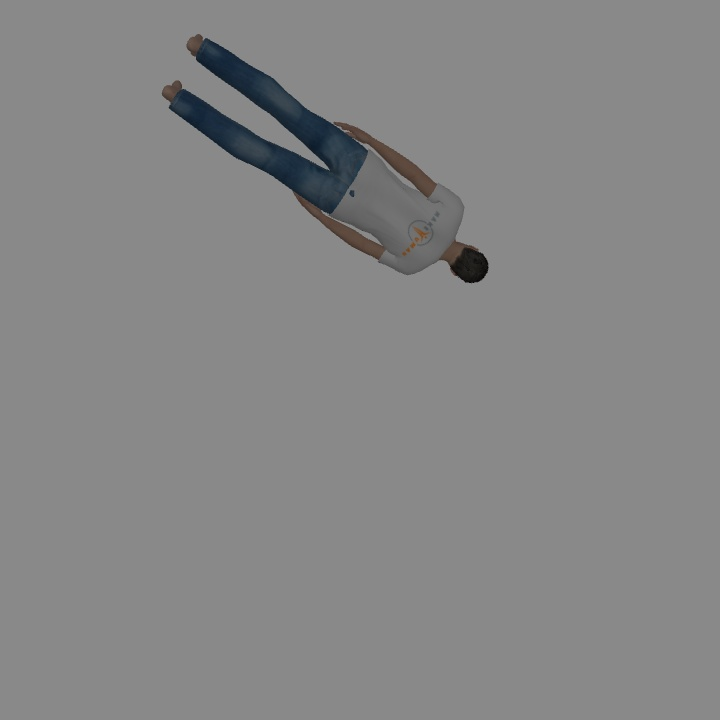victim: (158, 38, 487, 280)
